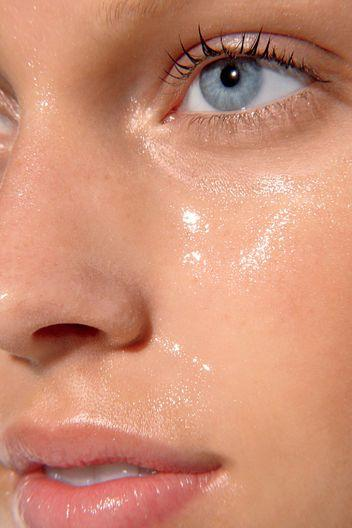Oily-Skin: (217, 190, 310, 313), (163, 194, 224, 287), (160, 344, 206, 419), (274, 171, 333, 226), (30, 77, 64, 144)
